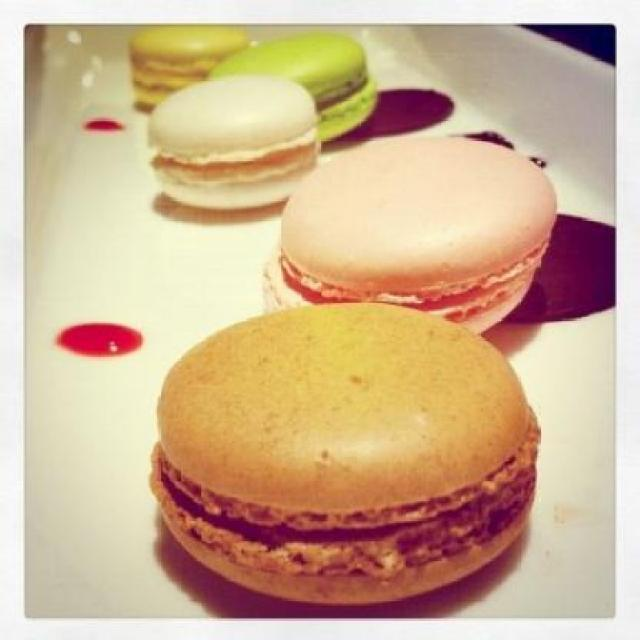Macaron: (120, 30, 577, 608)
